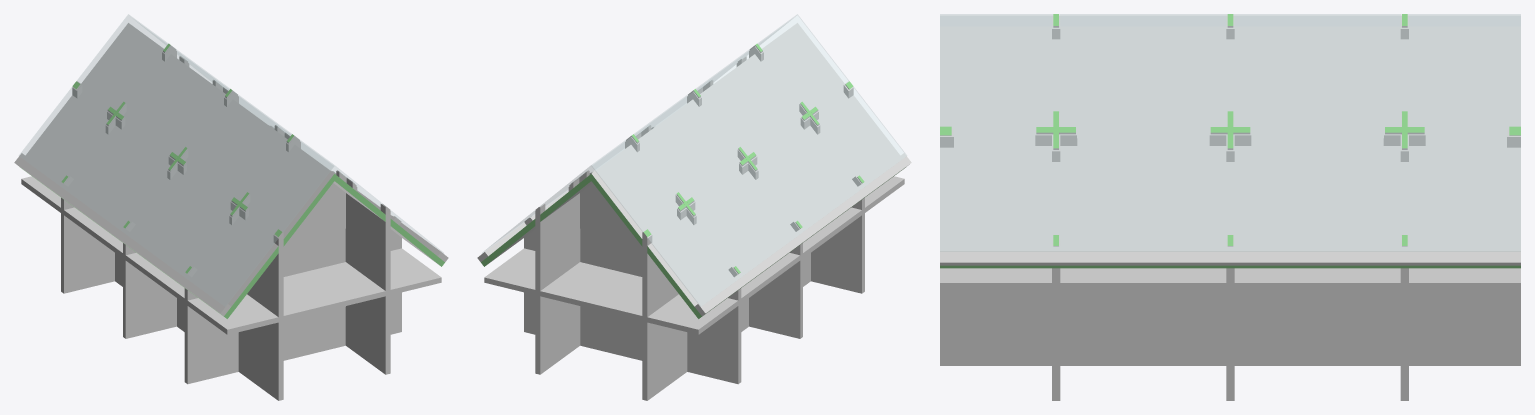
The model's file is 04-drafting.glb.
The picture shows the model from 3 angles, left to right: view 1: azimuth 30°, elevation 25°; view 2: azimuth 150°, elevation 25°; view 3: azimuth 270°, elevation 25°; orthographic projection. The views are drawn at different scales.
Visible parts, largest first — view 1: 双斜连脊玻璃, 左侧 斜展板｜45°, 03 通长水平台面｜35 mm, 通长横向落地板 1, 通长斜台横撑 1, 右侧 斜台纵撑, 左侧 外沿卡条｜直角, 左侧 纵向落地板, 通长横向落地板 3, 通长横向落地板 2, 右侧 纵向落地板, 左侧 斜台纵撑 (+4 smaller); view 2: 双斜连脊玻璃, 左侧 斜展板｜45°, 03 通长水平台面｜35 mm, 通长横向落地板 3, 通长斜台横撑 3, 右侧 斜台纵撑, 左侧 外沿卡条｜直角, 左侧 纵向落地板, 通长横向落地板 1, 通长横向落地板 2, 右侧 纵向落地板, 左侧 斜台纵撑 (+4 smaller); view 3: 双斜连脊玻璃, 右侧 斜展板｜45°, 右侧 纵向落地板, 03 通长水平台面｜35 mm, 右侧 外沿卡条｜直角, 右侧 斜台纵撑, 通长横向落地板 1, 通长横向落地板 2, 通长横向落地板 3, 通长斜台横撑 2, 通长斜台横撑 1, 通长斜台横撑 3.
Part boxes in pixels (left/top/right/bottom): 双斜连脊玻璃: left=19, top=14, right=443, bottom=306; 左侧 斜展板｜45°: left=20, top=23, right=334, bottom=318; 03 通长水平台面｜35 mm: left=21, top=176, right=441, bottom=334; 通长横向落地板 1: left=184, top=292, right=401, bottom=384; 通长斜台横撑 1: left=184, top=134, right=401, bottom=300; 右侧 斜台纵撑: left=179, top=56, right=390, bottom=290; 左侧 外沿卡条｜直角: left=14, top=153, right=231, bottom=316; 左侧 纵向落地板: left=115, top=253, right=283, bottom=400; 通长横向落地板 3: left=61, top=213, right=114, bottom=293; 通长横向落地板 2: left=123, top=259, right=176, bottom=338; 右侧 纵向落地板: left=345, top=295, right=390, bottom=374; 左侧 斜台纵撑: left=72, top=81, right=283, bottom=317; 双斜连脊玻璃: left=482, top=14, right=906, bottom=306; 左侧 斜展板｜45°: left=591, top=23, right=905, bottom=318; 03 通长水平台面｜35 mm: left=484, top=176, right=904, bottom=334; 通长横向落地板 3: left=524, top=292, right=741, bottom=384; 通长斜台横撑 3: left=524, top=134, right=741, bottom=300; 右侧 斜台纵撑: left=535, top=56, right=746, bottom=290; 左侧 外沿卡条｜直角: left=694, top=153, right=911, bottom=316; 左侧 纵向落地板: left=642, top=253, right=810, bottom=400; 通长横向落地板 1: left=811, top=213, right=864, bottom=293; 通长横向落地板 2: left=749, top=259, right=802, bottom=338; 右侧 纵向落地板: left=535, top=295, right=580, bottom=374; 左侧 斜台纵撑: left=642, top=81, right=853, bottom=317; 双斜连脊玻璃: left=940, top=14, right=1520, bottom=251; 右侧 斜展板｜45°: left=940, top=26, right=1520, bottom=268; 右侧 纵向落地板: left=940, top=290, right=1520, bottom=365; 03 通长水平台面｜35 mm: left=940, top=268, right=1520, bottom=290; 右侧 外沿卡条｜直角: left=940, top=246, right=1520, bottom=265; 右侧 斜台纵撑: left=940, top=126, right=1520, bottom=147; 通长横向落地板 1: left=1052, top=290, right=1060, bottom=400; 通长横向落地板 2: left=1226, top=290, right=1234, bottom=400; 通长横向落地板 3: left=1400, top=290, right=1408, bottom=400; 通长斜台横撑 2: left=1226, top=14, right=1234, bottom=282; 通长斜台横撑 1: left=1052, top=14, right=1060, bottom=282; 通长斜台横撑 3: left=1400, top=14, right=1408, bottom=282.
Bounding box in the file's own units: 1.6 × 1.49 × 2.5.
